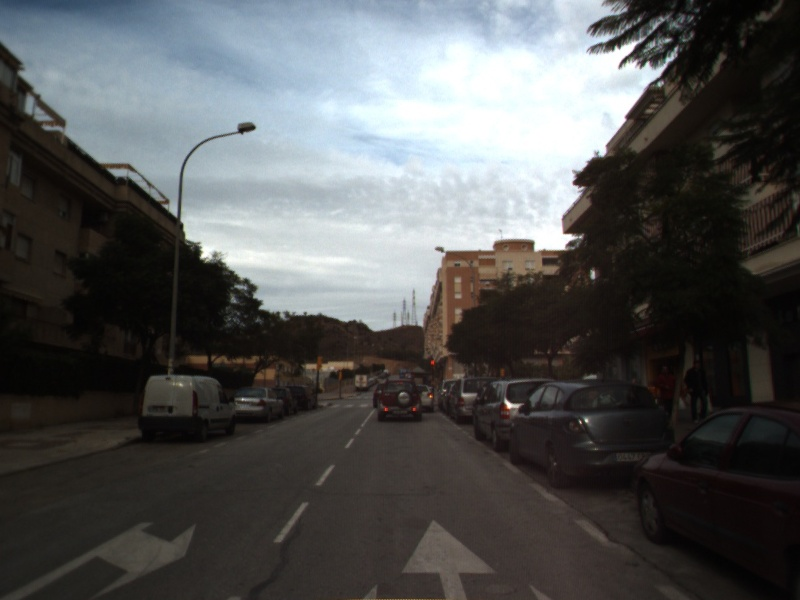STRAIGHT: (399, 516, 501, 600)
